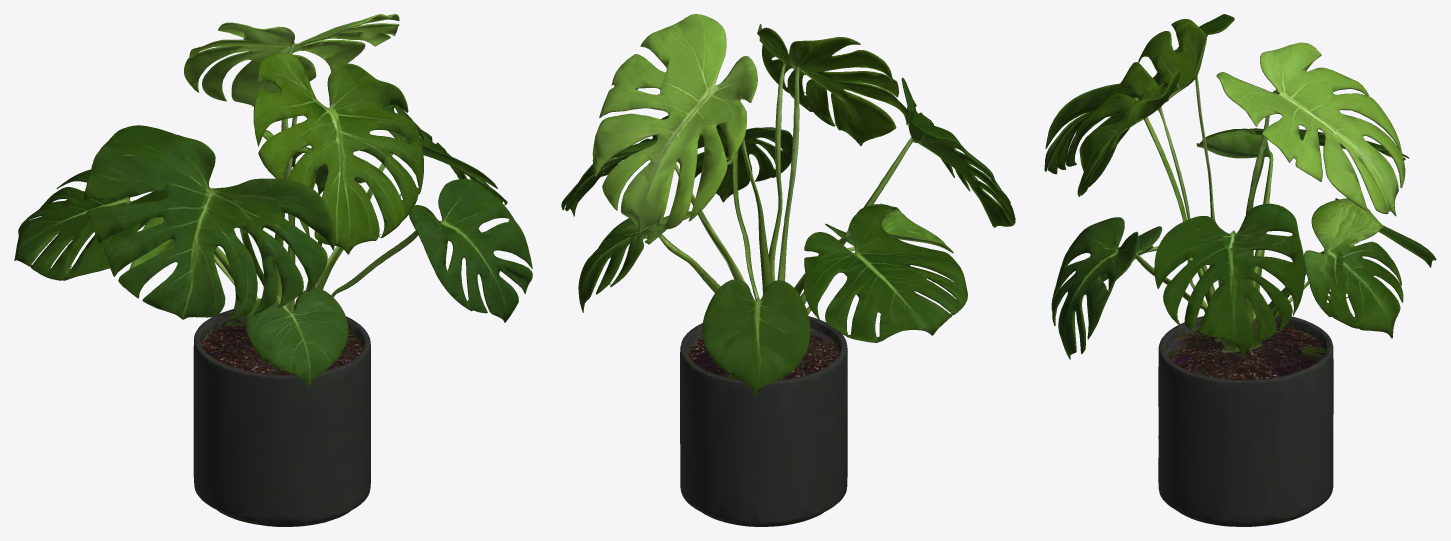
Rendered from monstera.glb.
3 renders of one model, left to right at view 1: azimuth 30°, elevation 25°; view 2: azimuth 150°, elevation 25°; view 3: azimuth 270°, elevation 25°, orthographic. The views are drawn at different scales.
Parts seen in each view (by area): view 1: Mesh_0; view 2: Mesh_0; view 3: Mesh_0.
Part boxes in pixels (x1,y1,x2,y2): Mesh_0: (14, 14, 532, 526); Mesh_0: (561, 14, 1015, 526); Mesh_0: (1044, 14, 1436, 526).
Size of the model in its own units: 1.81 by 1.91 by 1.49.
1 material, 1 textured.
